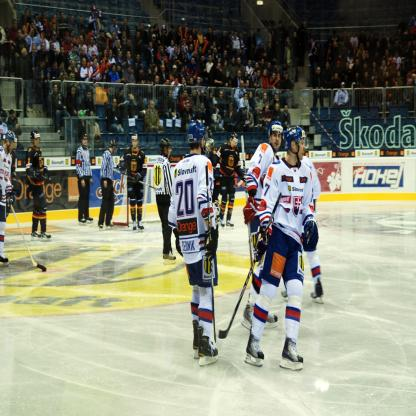Helmet: (286, 127, 308, 162), (186, 119, 209, 152), (269, 118, 284, 144), (6, 129, 18, 154), (161, 138, 173, 160), (130, 132, 139, 148), (231, 131, 240, 147), (32, 131, 40, 147), (81, 132, 89, 146), (207, 138, 215, 151), (111, 141, 117, 154)
